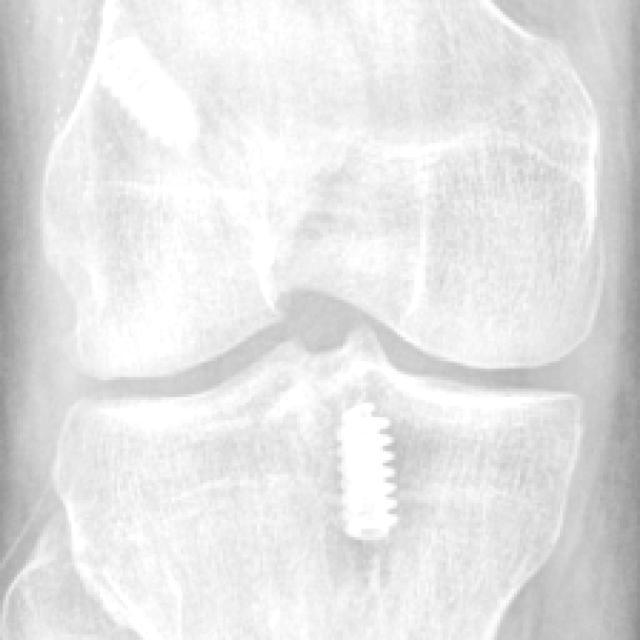femur: (40, 0, 603, 379)
tibia: (51, 326, 584, 640)
